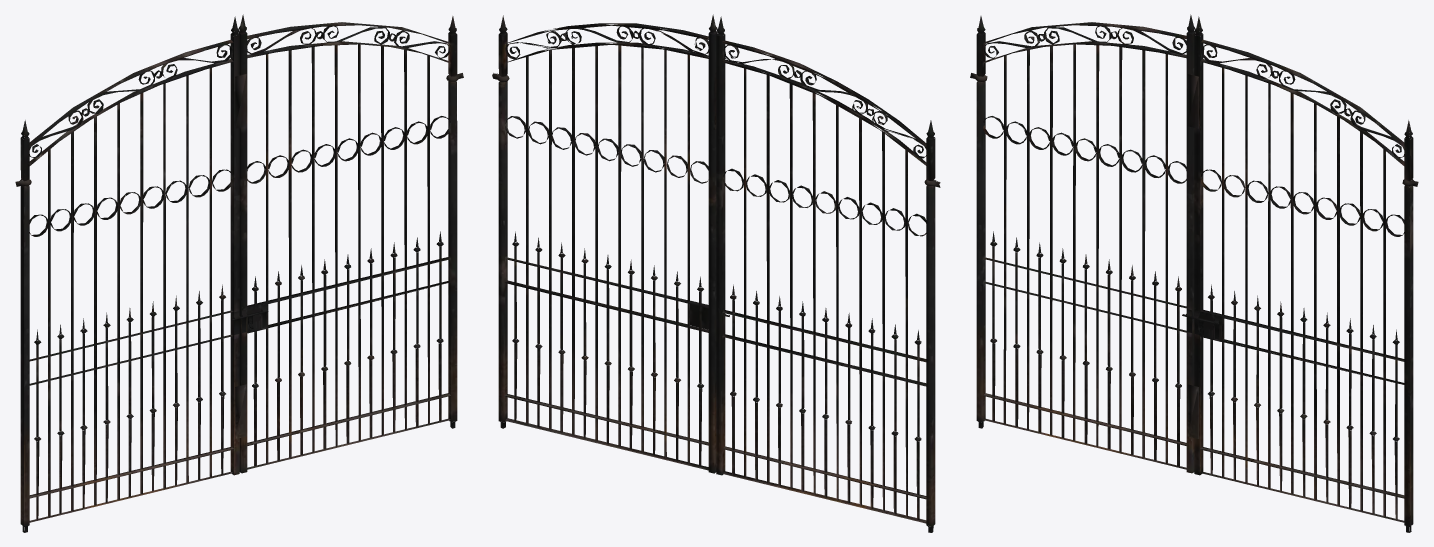
File: ph_large_iron_gate.glb
The picture shows the model from 3 angles, left to right: view 1: azimuth 30°, elevation 25°; view 2: azimuth 150°, elevation 25°; view 3: azimuth 330°, elevation 25°; orthographic projection.
Parts seen in each view (by area): view 1: large_iron_gate_right_door; view 2: large_iron_gate_right_door; view 3: large_iron_gate_right_door.
Boxes of the visible parts, bbox=[...] form: large_iron_gate_right_door: bbox=[15, 14, 463, 532]; large_iron_gate_right_door: bbox=[492, 14, 940, 532]; large_iron_gate_right_door: bbox=[970, 14, 1418, 532].
Bounding box in the file's own units: 2.95 × 2.93 × 0.0966.
Materials: 1 (1 with a texture image).
